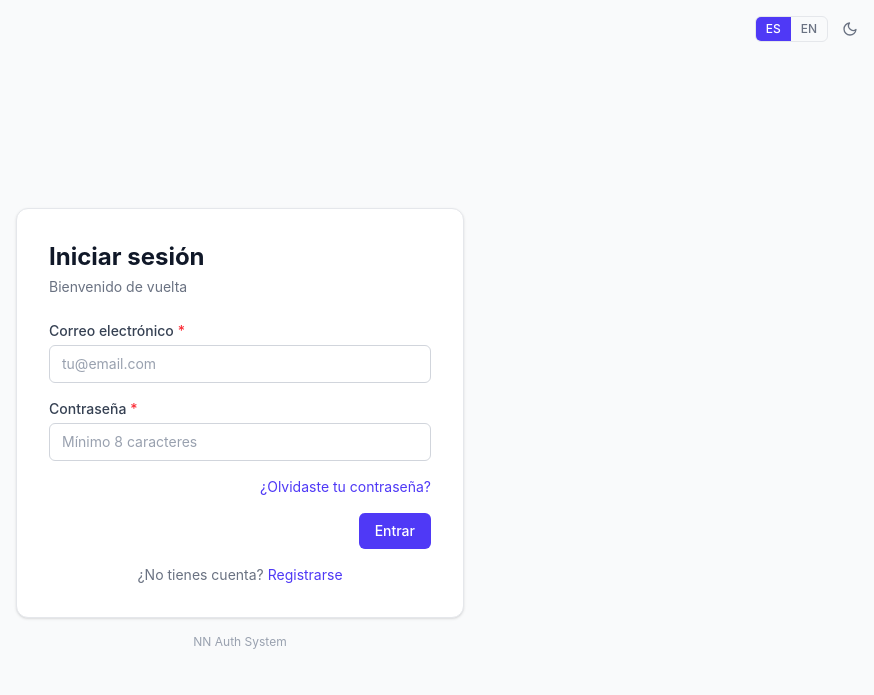
Scenario: LoginPage › clears error alert when close button is clicked
Step 1. Type "x@x.com" into the field labelled "Correo electrónico*" → (240, 364), box [49,345,431,383]
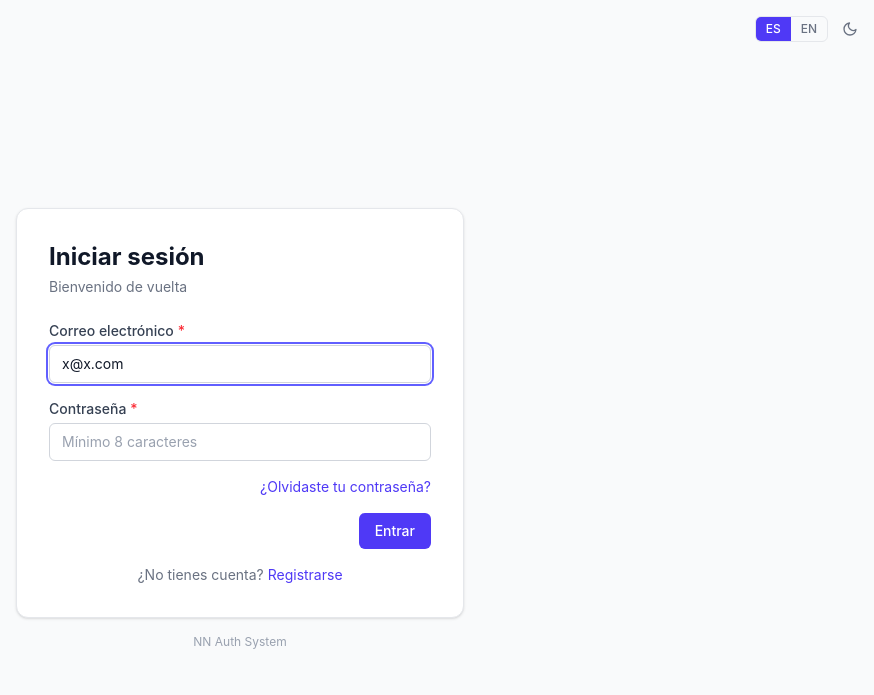
Step 2. Type "pass" into the password field labelled "Contraseña*" → (240, 442), box [49,423,431,461]
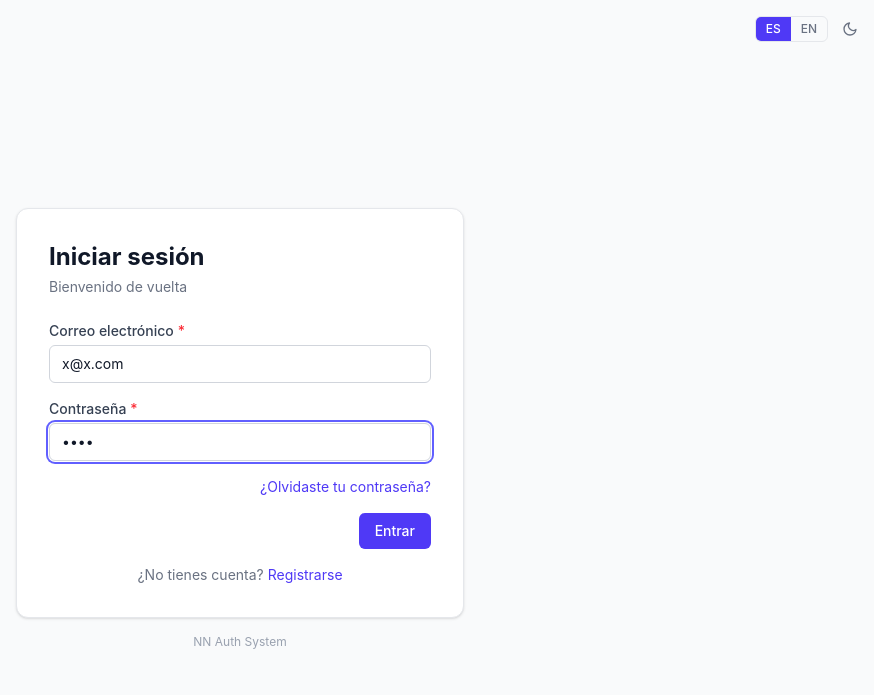
Step 3. Click the button "Entrar" → (395, 531), box [359,513,431,549]
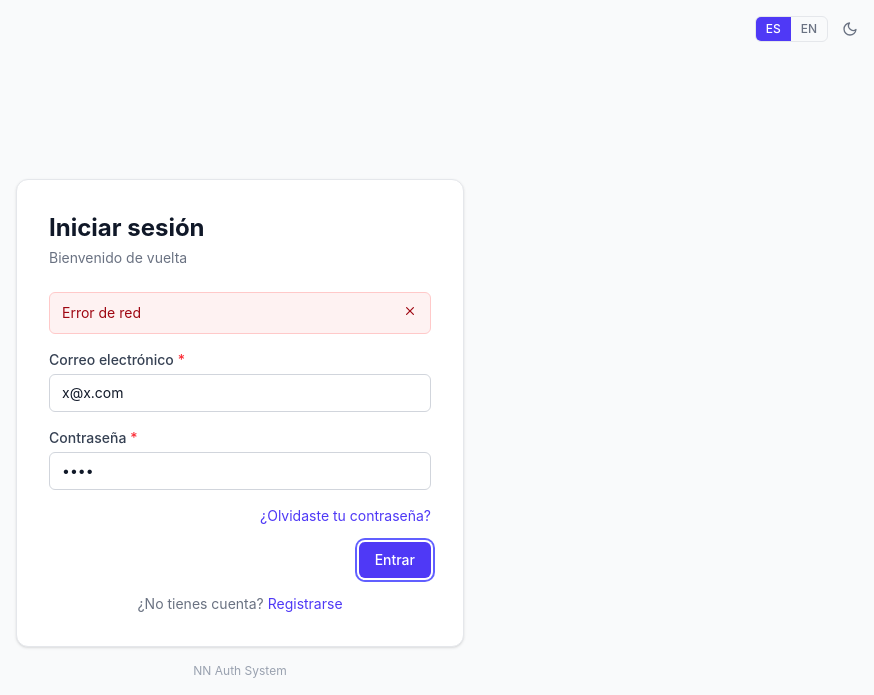
Expected: the message "Error de red" is shown, [49,292,431,334]
// Cerrar la alerta
Step 4. Click the button named "cerrar" → (410, 311), box [402,303,418,319]
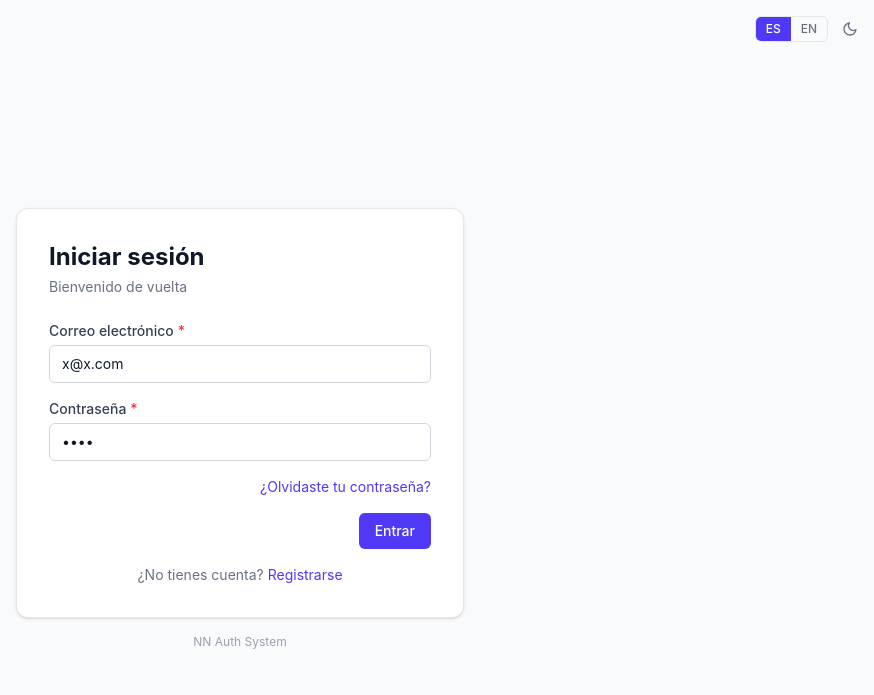
Expected: the message "Error de red" is gone
